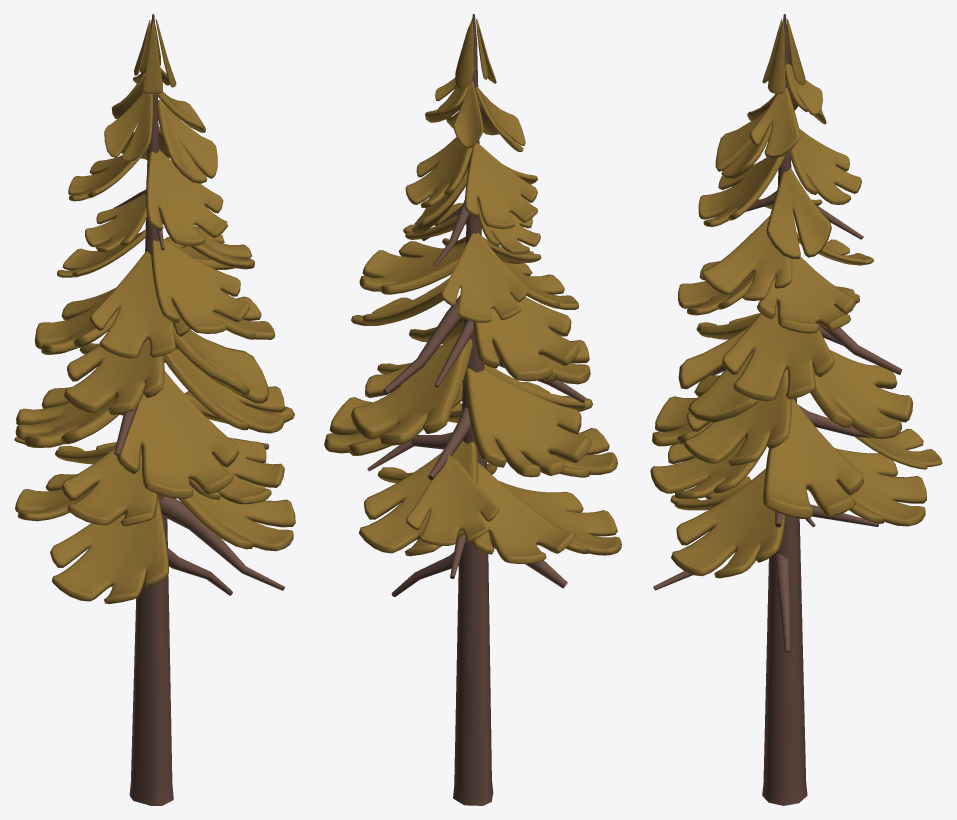
File: PineTreeD.fbx
3 renders of one model, left to right at view 1: azimuth 30°, elevation 25°; view 2: azimuth 150°, elevation 25°; view 3: azimuth 270°, elevation 25°, orthographic.
Parts seen in each view (by area): view 1: PineD1; view 2: PineD1; view 3: PineD1.
Part boxes in pixels (box(x1,y1,x2,y2)): PineD1: box(14, 14, 295, 805); PineD1: box(324, 14, 621, 805); PineD1: box(650, 14, 942, 805).
Bounding box in the file's own units: 197 × 575 × 195.
